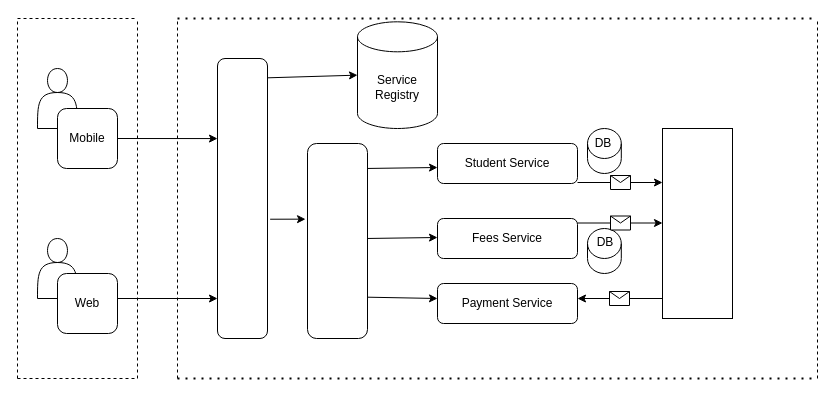
The diagram is 837 pixels wide and 397 high, and some of its shapes have lost their labels. Here are the shapes that lost their labels. From the top down, the box of each, then its label:
(216, 58, 268, 338): API Gateway
(306, 142, 368, 338): Load Balancer
(662, 128, 732, 318): Message Broker
